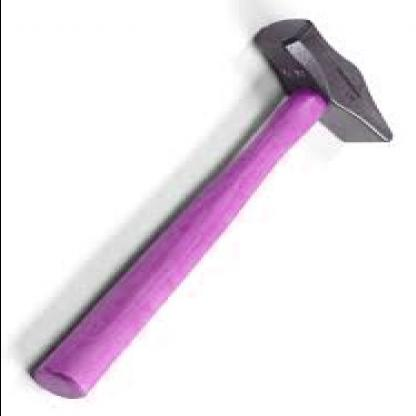Hammer: (17, 10, 401, 408)
